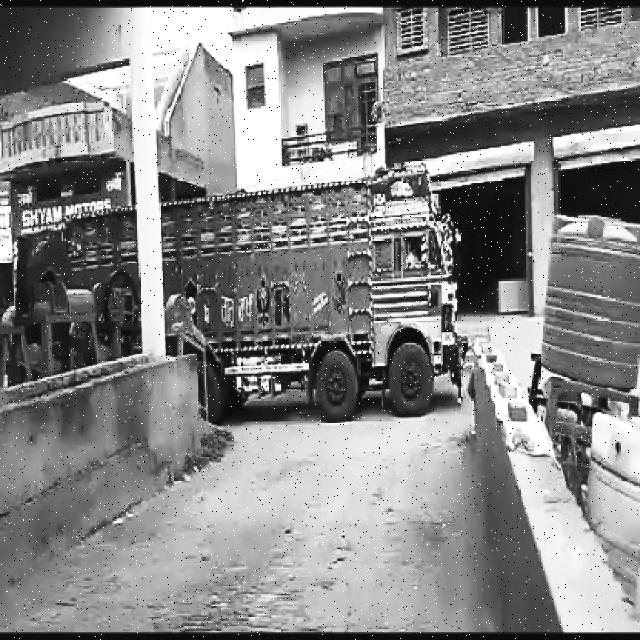HCV: (63, 185, 463, 453)
